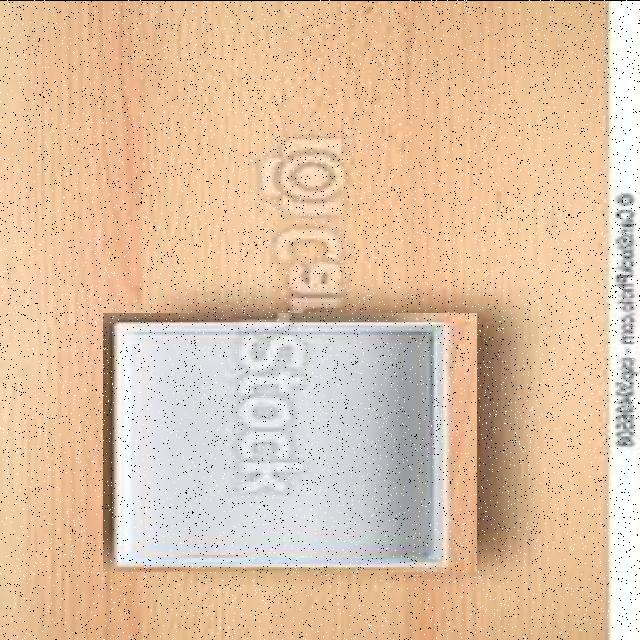normal: (103, 312, 477, 571)
